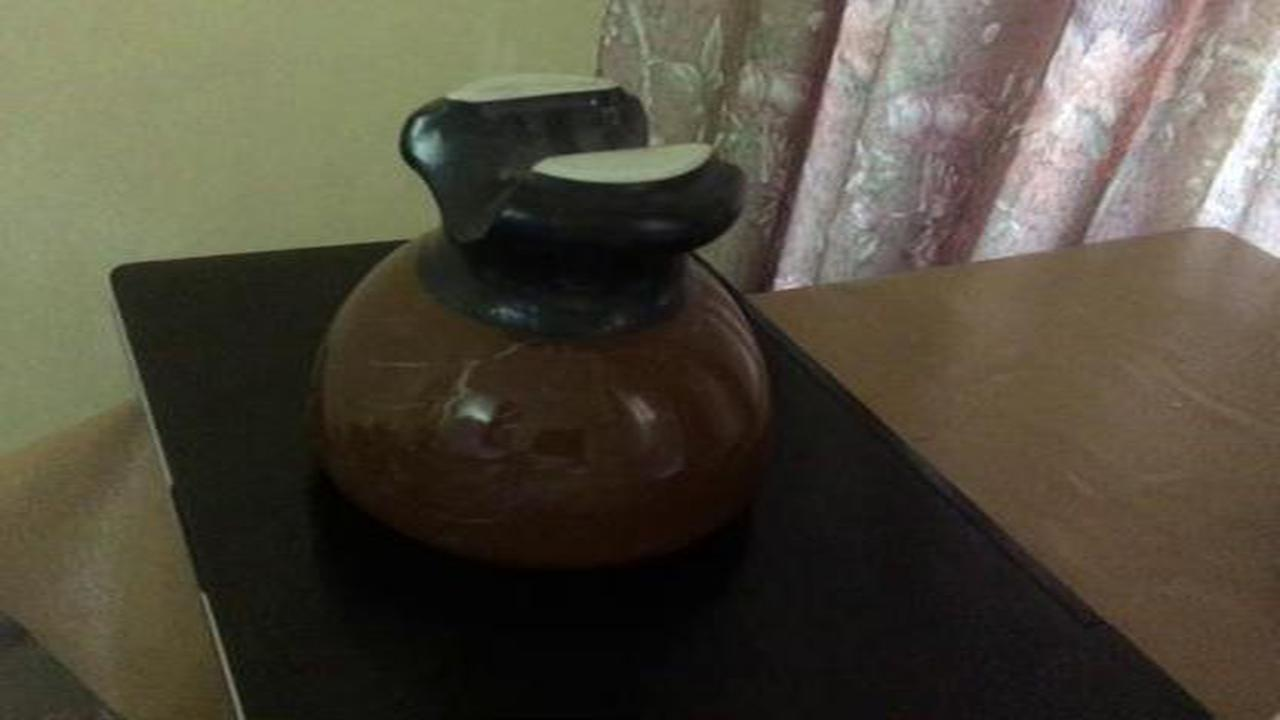insulator_pin: (293, 51, 828, 587)
